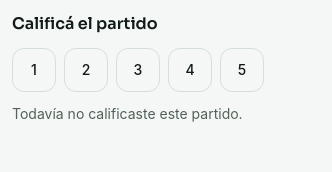
Test case: Errores al guardar › un error en la primera calificación no la presenta como guardada
Click the button "5": (242, 70) left=220, top=48, right=264, bottom=92
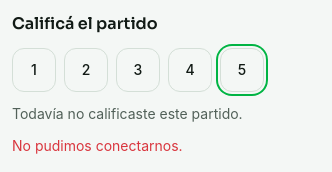
Expected: the text "Todavía no calificaste este partido." is shown, left=12, top=105, right=243, bottom=122
Expected: the message "No pudimos conectarnos." is shown, left=12, top=137, right=183, bottom=154
